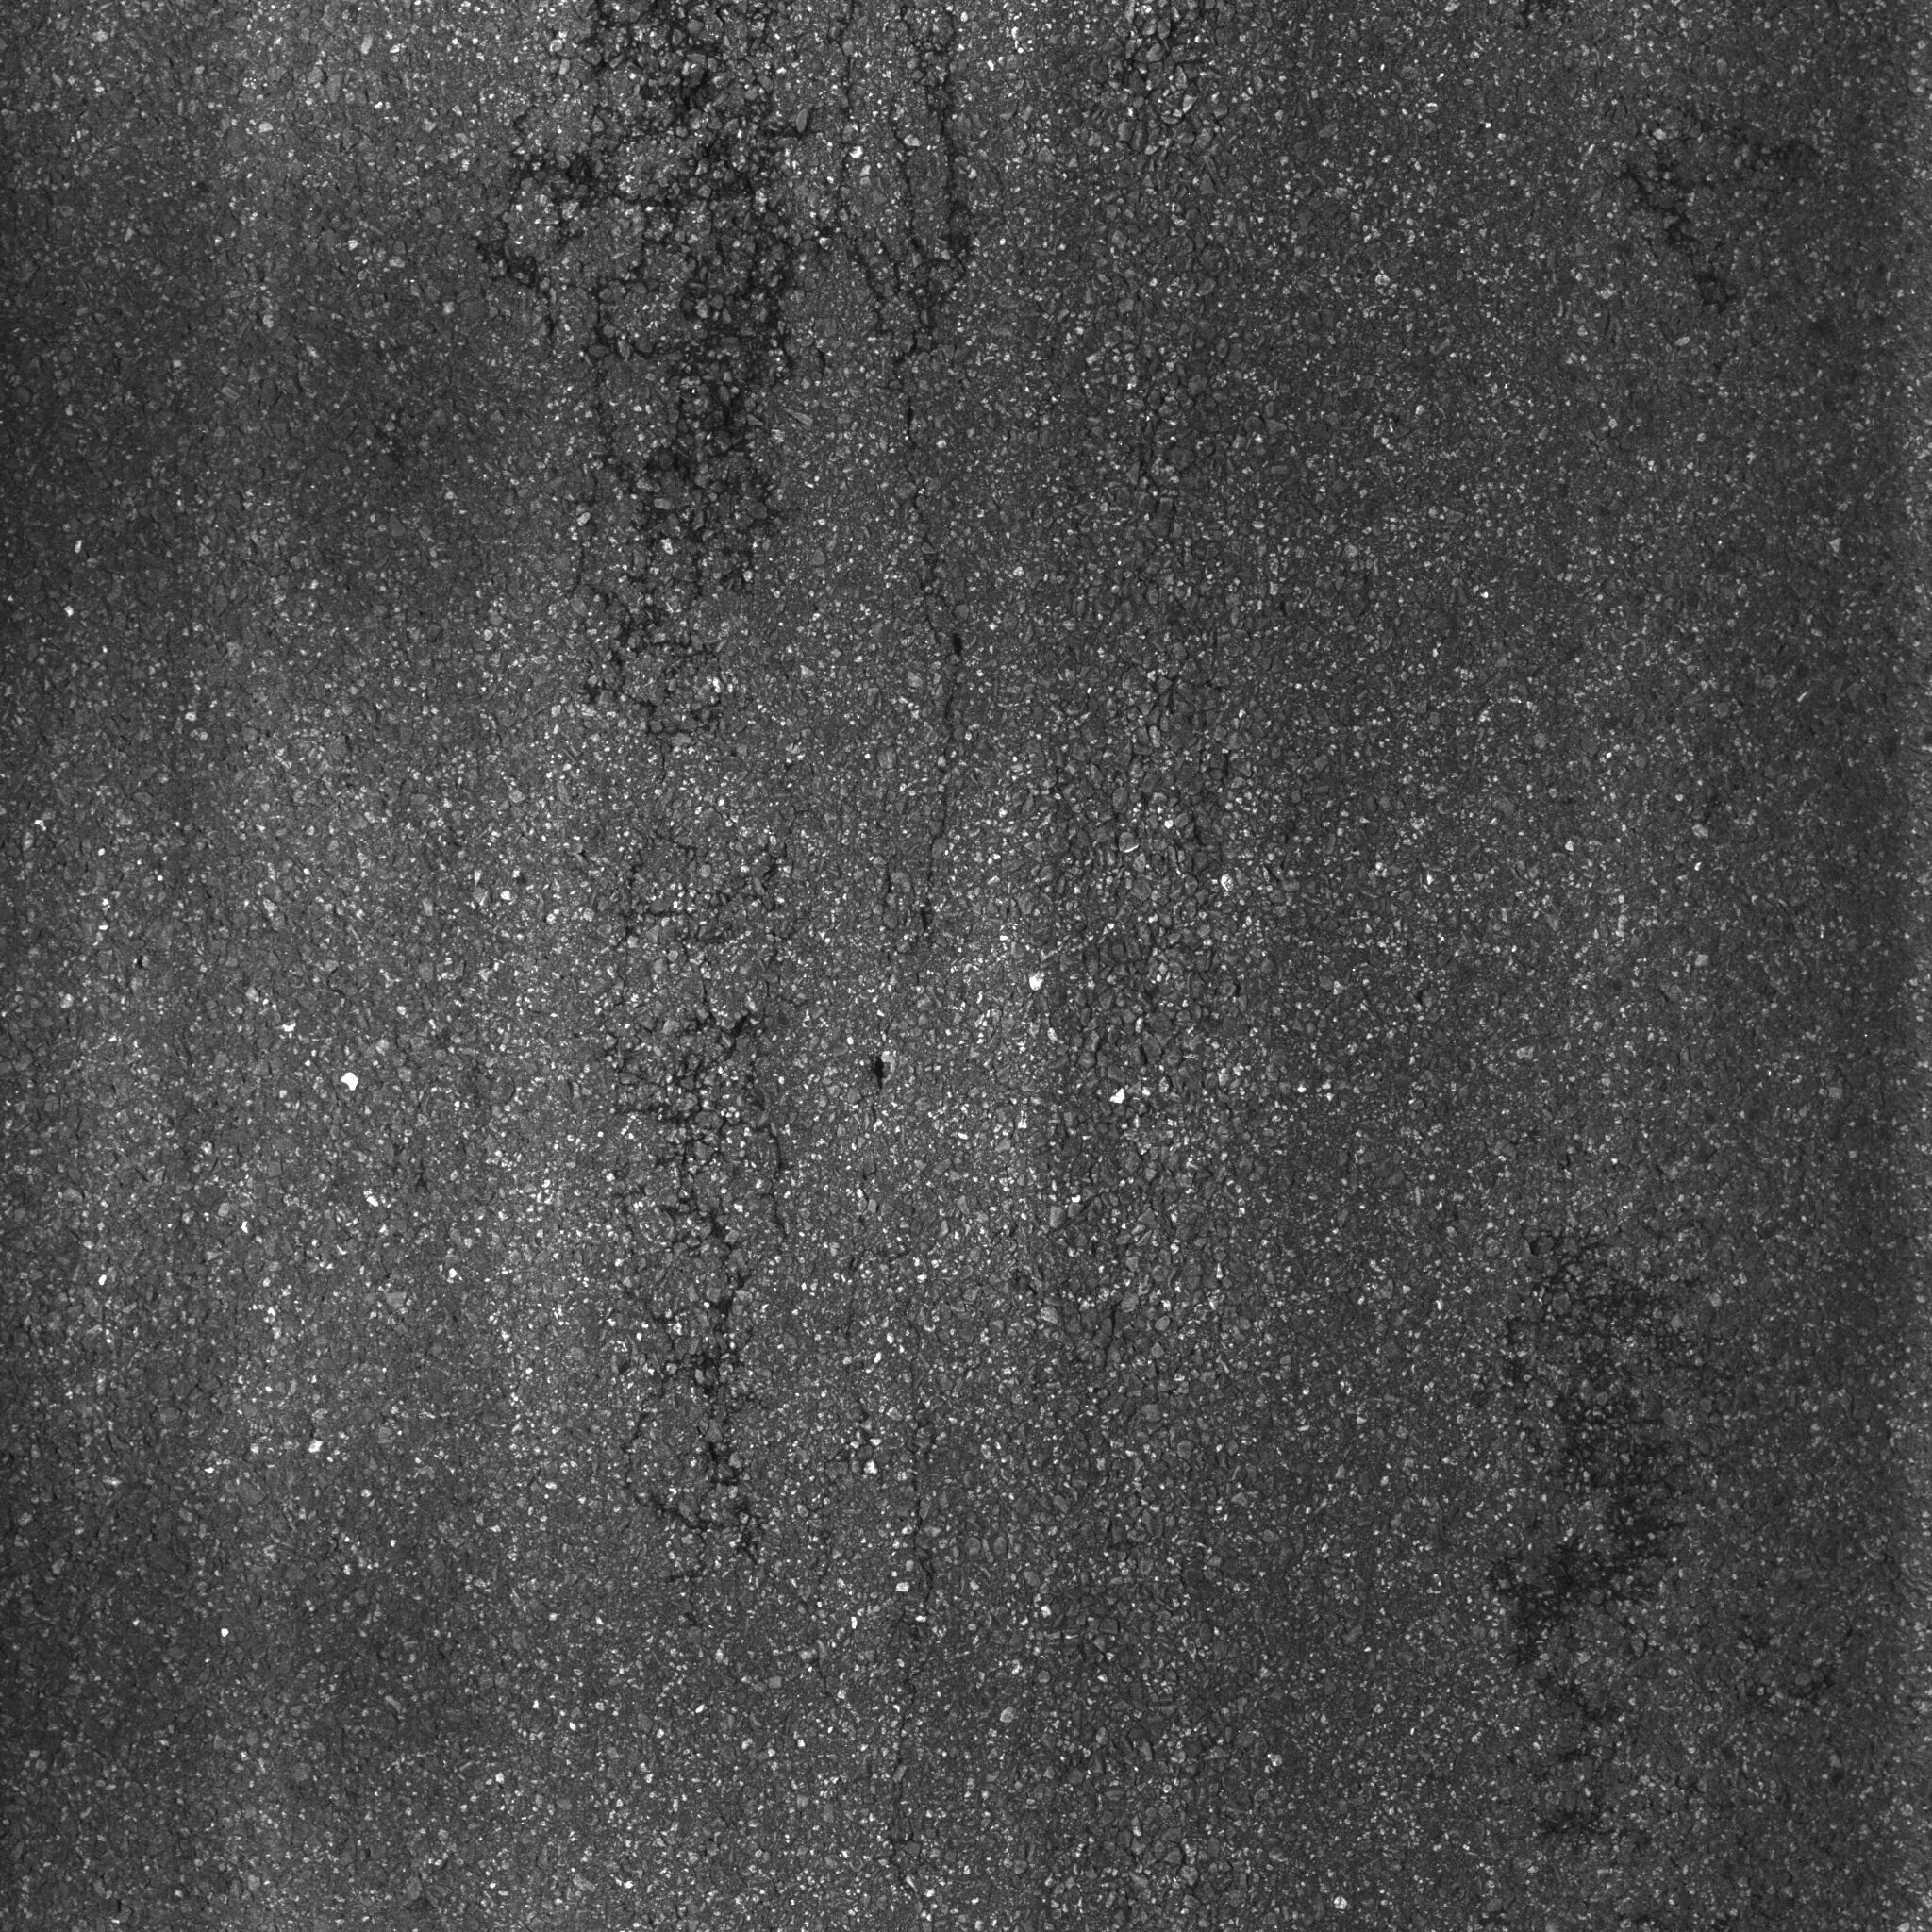alligator: (433, 4, 1104, 1612)
